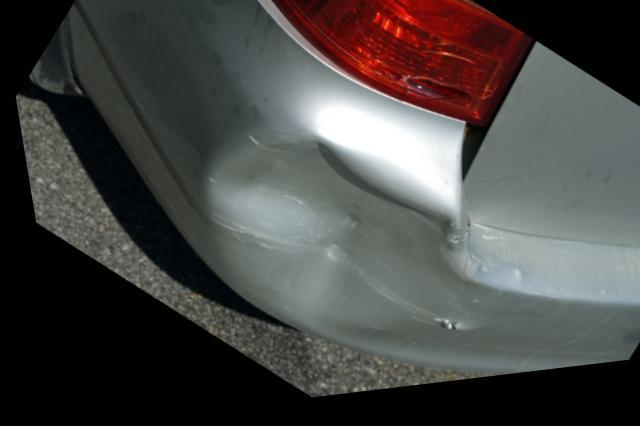dent: (203, 134, 457, 353)
lamp broken: (265, 0, 531, 140)
